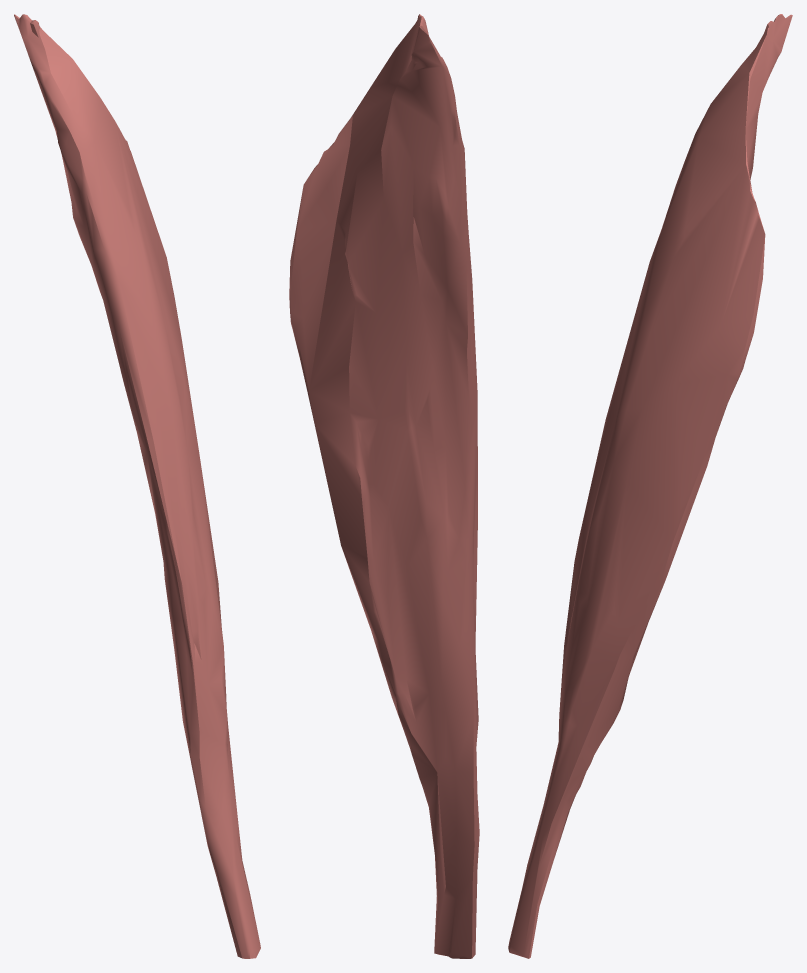
File: fma38471_fj1499m.glb
The picture shows the model from 3 angles, left to right: view 1: azimuth 30°, elevation 25°; view 2: azimuth 150°, elevation 25°; view 3: azimuth 270°, elevation 25°; orthographic projection. The views are drawn at different scales.
Visible parts, largest first — view 1: FMA38471_FJ1499M; view 2: FMA38471_FJ1499M; view 3: FMA38471_FJ1499M.
Boxes of the visible parts, x1,y1,x2,y2 form: FMA38471_FJ1499M: [14, 14, 260, 958]; FMA38471_FJ1499M: [289, 14, 479, 958]; FMA38471_FJ1499M: [508, 14, 792, 958].
Size of the model in its own units: 0.0281 by 0.1791 by 0.052.
